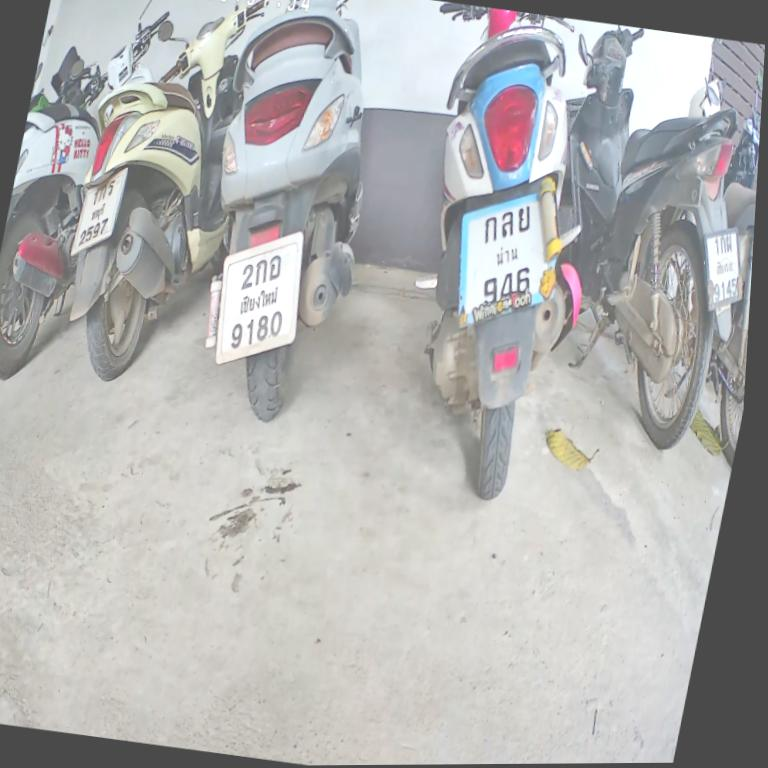license plate: (432, 173, 577, 353), (197, 213, 325, 383), (681, 216, 755, 321), (65, 151, 135, 261)
